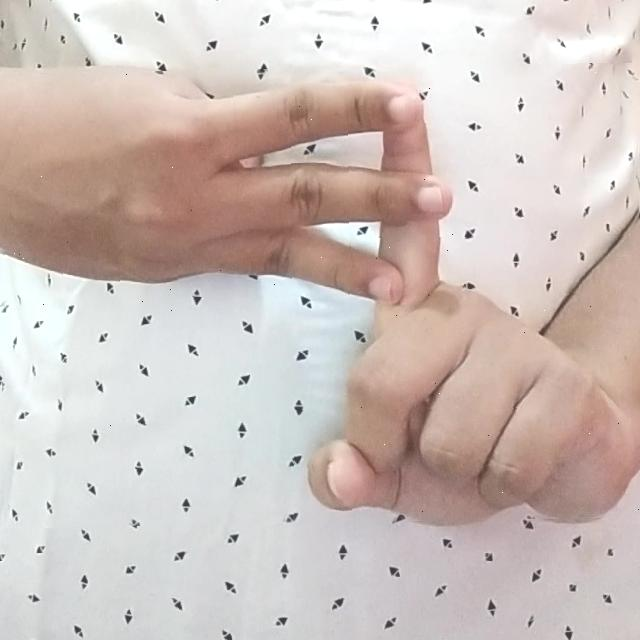B: (0, 72, 640, 520)
